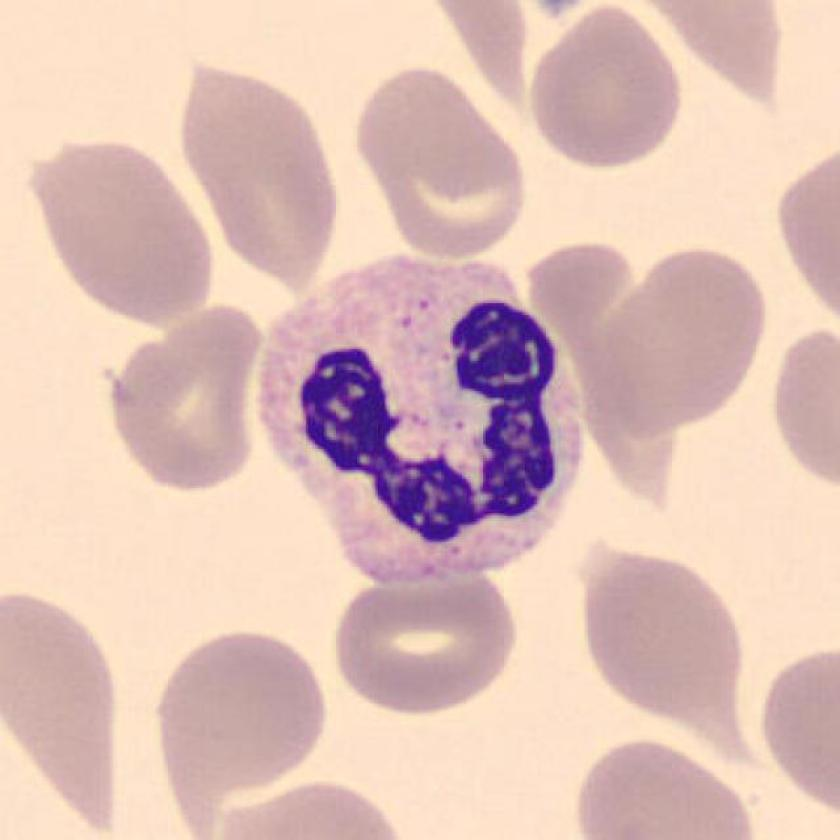neutrophil: (260, 258, 588, 577)
